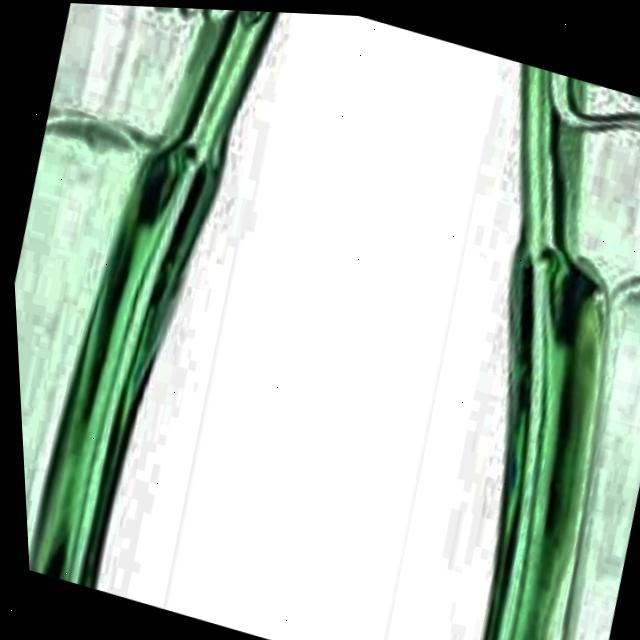glass: (11, 2, 279, 590), (475, 58, 640, 640)
